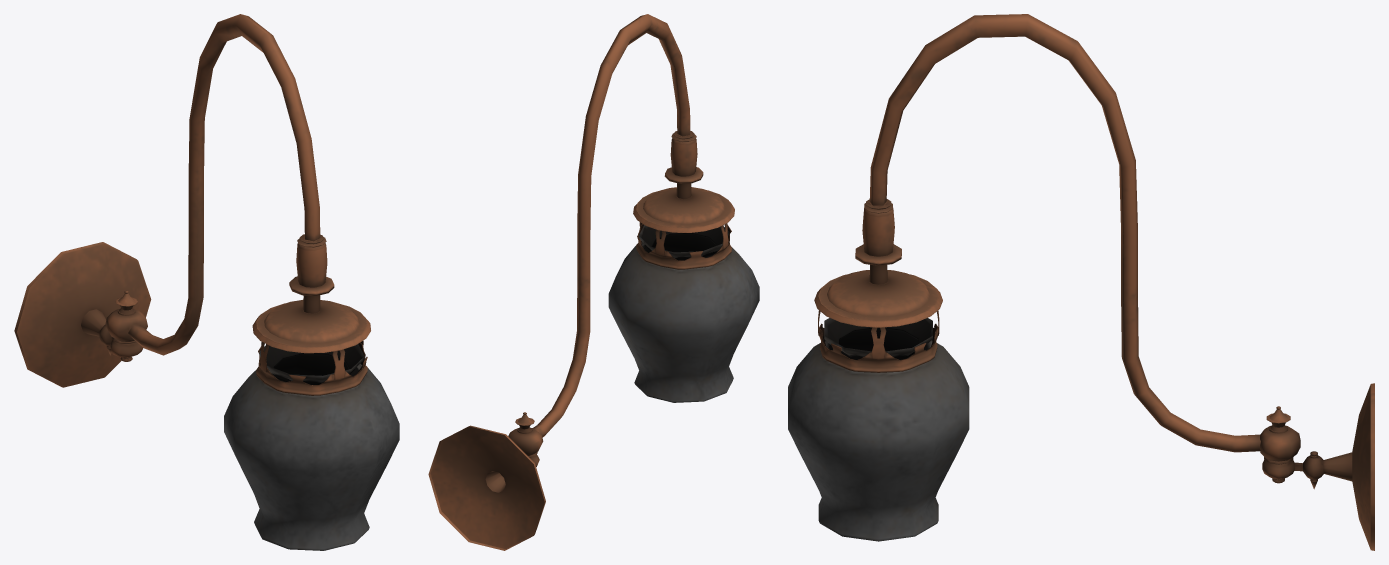
File: Wall_Lamp_12.fbx
3 renders of one model, left to right at view 1: azimuth 30°, elevation 25°; view 2: azimuth 150°, elevation 25°; view 3: azimuth 270°, elevation 25°, orthographic. The views are drawn at different scales.
Visible parts, largest first — view 1: Wall_Lamp_1; view 2: Wall_Lamp_1; view 3: Wall_Lamp_1.
Boxes of the visible parts, x1,y1,x2,y2 form: Wall_Lamp_1: (14,14,399,550); Wall_Lamp_1: (428,14,759,550); Wall_Lamp_1: (788,14,1374,550).
Bounding box in the file's own units: 15.28 × 46.42 × 47.05.
1 material, 1 textured.
